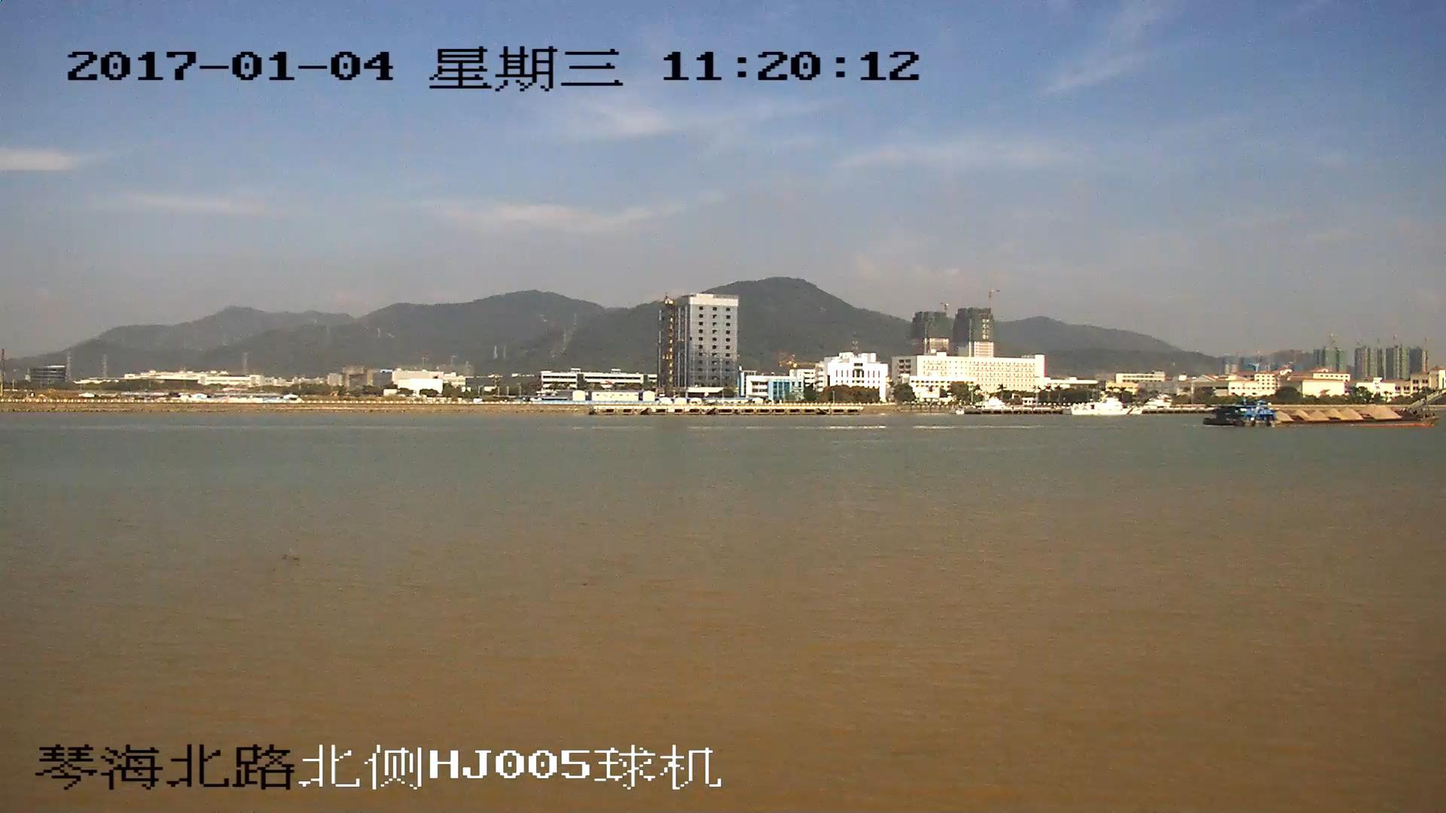ore carrier: (1203, 387, 1445, 428)
